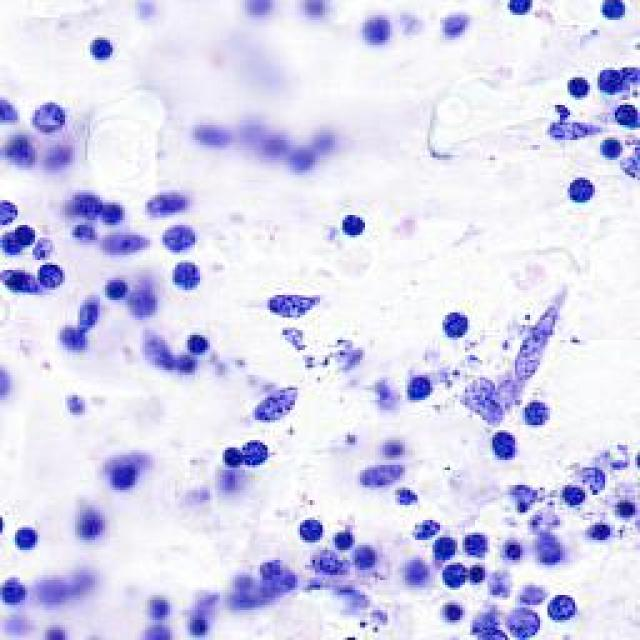cell: (253, 386, 309, 426), (367, 425, 420, 463), (42, 569, 103, 602), (341, 466, 419, 491), (235, 425, 275, 471), (260, 293, 328, 320), (515, 391, 559, 432), (435, 298, 477, 338), (338, 208, 380, 245), (28, 257, 76, 289), (480, 422, 516, 462), (358, 13, 404, 43), (135, 588, 180, 618), (556, 177, 604, 205), (128, 279, 162, 318), (540, 595, 586, 623), (2, 572, 38, 607), (562, 470, 592, 512), (71, 502, 108, 536), (170, 257, 208, 289), (67, 182, 104, 214), (34, 103, 71, 135), (546, 113, 588, 141), (54, 387, 92, 417), (147, 192, 194, 216), (192, 120, 228, 151), (502, 476, 533, 512), (405, 517, 451, 541), (509, 608, 544, 639), (51, 324, 90, 351), (534, 530, 565, 562), (566, 68, 595, 102), (438, 13, 474, 40), (109, 456, 141, 486), (14, 523, 43, 556), (86, 34, 120, 62), (297, 511, 324, 546), (226, 570, 255, 602), (396, 554, 429, 582), (594, 4, 636, 25), (126, 0, 174, 18), (485, 566, 515, 594), (0, 94, 21, 134), (241, 1, 283, 20), (438, 562, 467, 589), (465, 525, 491, 555), (70, 219, 102, 243), (586, 522, 618, 546), (263, 563, 290, 591), (5, 192, 23, 233), (1, 361, 16, 410), (8, 139, 33, 168), (358, 537, 381, 568), (1, 268, 28, 294), (602, 66, 623, 99), (408, 375, 431, 405), (181, 336, 217, 355), (104, 199, 130, 225), (296, 147, 320, 175), (267, 130, 287, 162), (507, 4, 542, 22), (610, 106, 640, 127), (102, 276, 126, 301), (300, 0, 330, 20), (335, 517, 354, 548), (437, 603, 468, 622), (500, 538, 528, 559), (43, 619, 69, 640), (223, 444, 243, 471), (615, 494, 637, 516), (314, 134, 339, 153), (599, 138, 621, 158), (190, 618, 213, 635), (143, 626, 170, 640), (3, 238, 22, 257)
